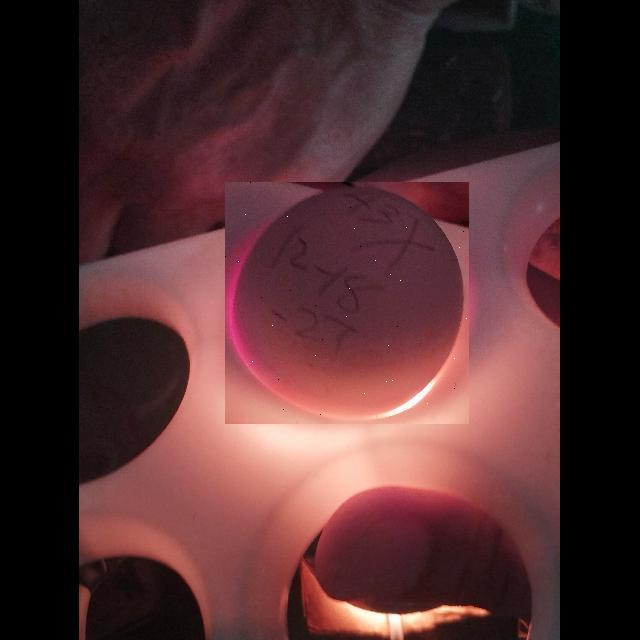Fertile: (225, 182, 469, 424)
